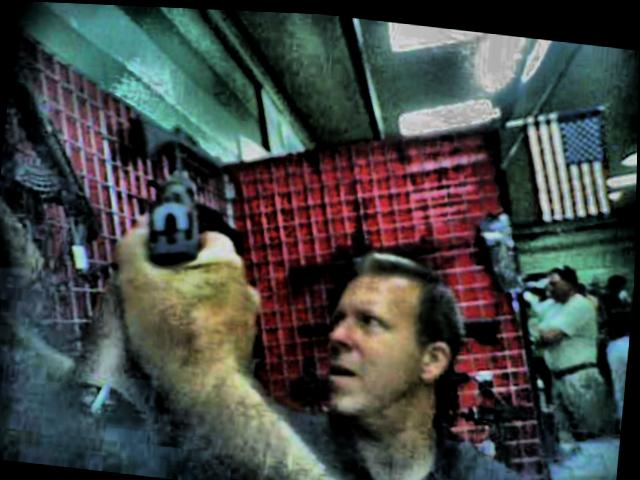pistol: (125, 157, 217, 268)
